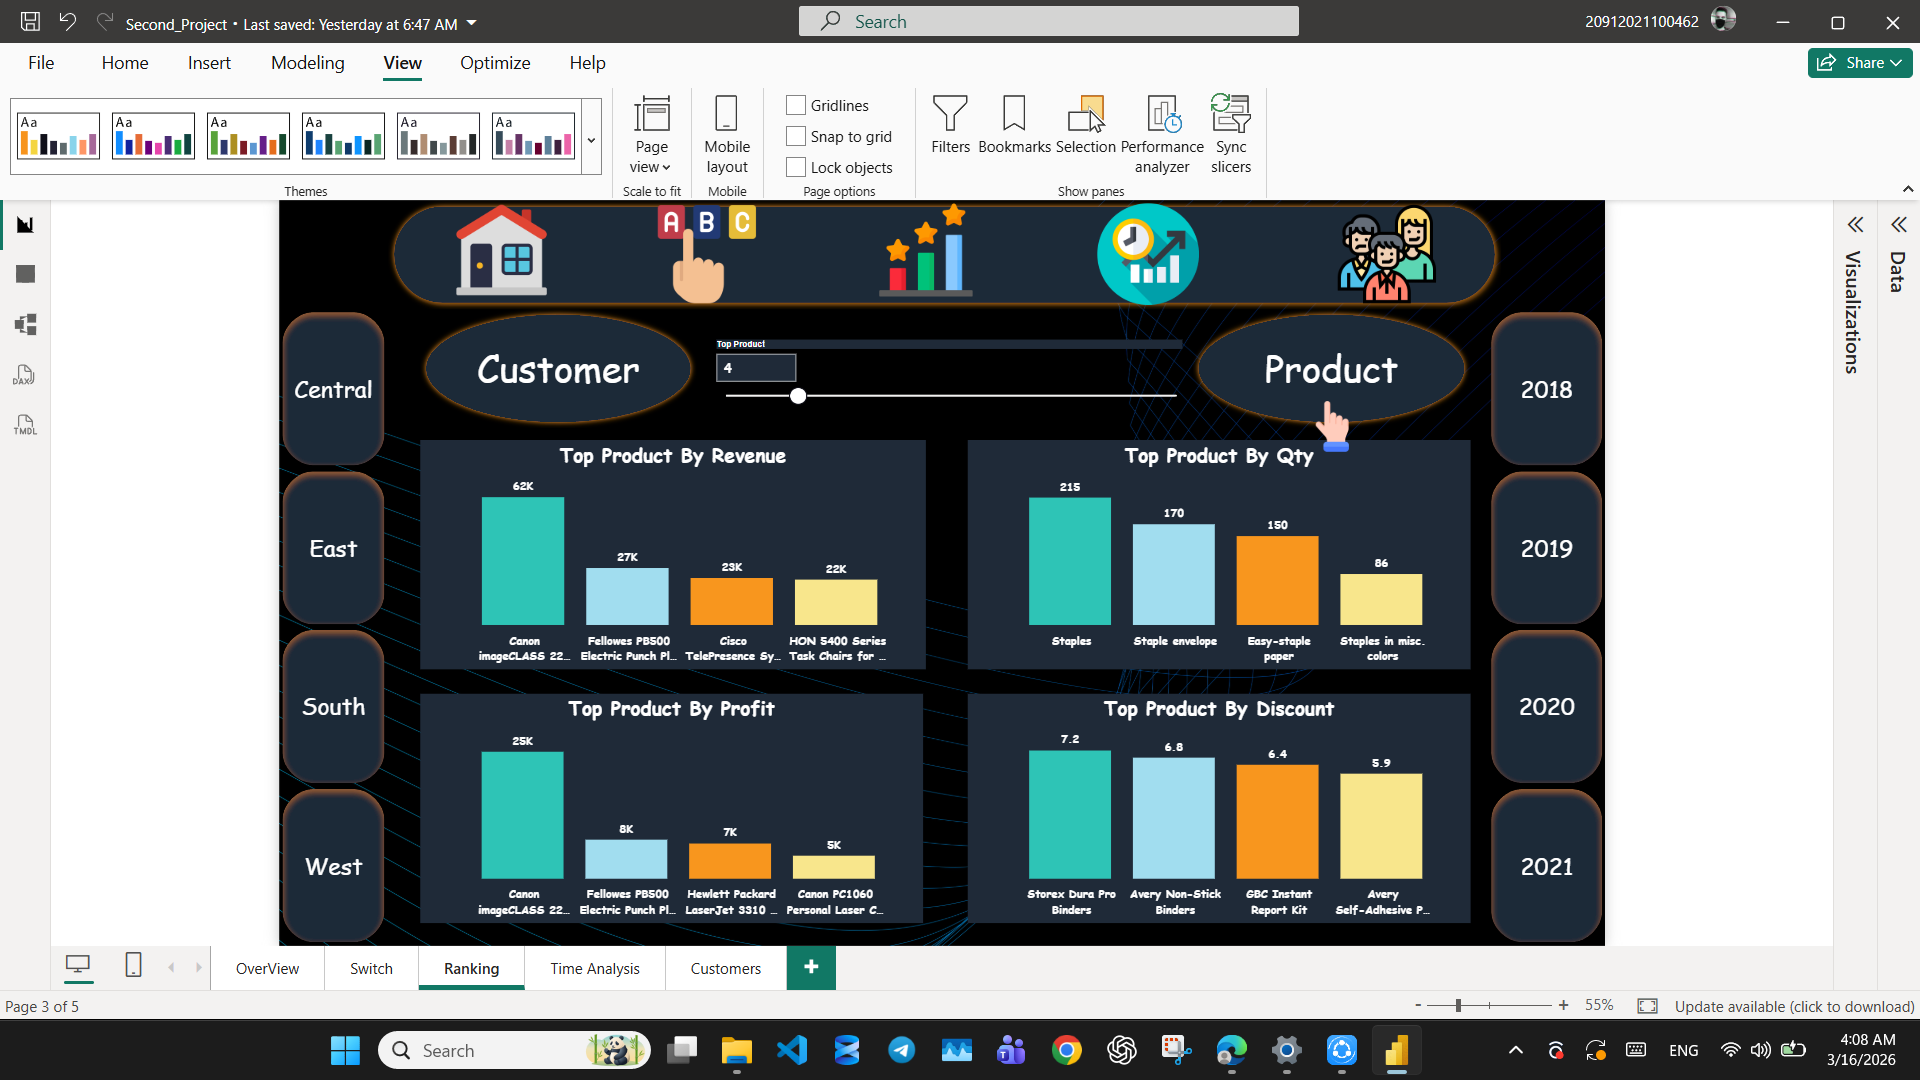

The page's visual inventory and layout, read from the dashboard file:
{"tool":"powerbi","page":{"name":"Ranking","canvas":[1920,1080],"ordinal":2},"visuals":[{"type":"shape","box":[158,0,1762,158],"z":0},{"type":"actionButton","title":"Button_Customer","box":[204.6,157.7,399.8,172.7],"z":2000},{"type":"actionButton","title":"Button_Product","box":[1482,158,402,172],"z":3000},{"type":"slicer","title":"Top Customer","fields":{"Values":["Customer_Parameter.Customer_Parameter"]},"box":[604,172,878,158],"z":8000},{"type":"clusteredColumnChart","title":"Top Customer By Revenue","fields":{"Y":["Dax.Ranking _Customer_Rev"],"Category":["Dim_Customer.Customer Name"]},"box":[204,348,788,332],"z":9000},{"type":"clusteredColumnChart","title":"Top Customer By Profit","fields":{"Category":["Dim_Customer.Customer Name"],"Y":["Dax.Ranking _Customer_profit"]},"box":[204,714,788,332],"z":10000},{"type":"clusteredColumnChart","title":"Top Customer By Qty","fields":{"Y":["Dax.Ranking _Customer_qty"],"Category":["Dim_Customer.Customer Name"]},"box":[1016,348,874,332],"z":11000},{"type":"clusteredColumnChart","title":"Top Customer By Discount","fields":{"Category":["Dim_Customer.Customer Name"],"Y":["Dax.Ranking _Customer_discount"]},"box":[1016,714,874,332],"z":12000},{"type":"image","title":"Image_profit_Customer","box":[335,243.3,100,170],"z":13000},{"type":"image","box":[230.7,0,184.2,144.8],"z":15000},{"type":"image","box":[650,0,158,158],"z":16000},{"type":"image","box":[1734,0,156,158],"z":17000},{"type":"image","box":[1016,0,158,144],"z":18000},{"type":"image","box":[1374,0,158,158],"z":19000},{"type":"advancedSlicerVisual","fields":{"Values":["Dim_Customer.Region"]},"box":[0,160,158.3,406.7],"z":20000},{"type":"advancedSlicerVisual","fields":{"Values":["Calendar_Table.Year"]},"box":[0,585.7,158.6,494.3],"z":21000}]}

Visuals, with their boxes on the page's 1920x1080 design canvas (x1, y1, x2, y2). These are canvas units, not pixel positions in the 1920x1080 screenshot, which may show the page scaled, cropped or inside an application window:
shape: 158,0,1920,158
"Button_Customer" actionButton: 205,158,604,330
"Button_Product" actionButton: 1482,158,1884,330
"Top Customer" slicer: 604,172,1482,330
"Top Customer By Revenue" clusteredColumnChart: 204,348,992,680
"Top Customer By Profit" clusteredColumnChart: 204,714,992,1046
"Top Customer By Qty" clusteredColumnChart: 1016,348,1890,680
"Top Customer By Discount" clusteredColumnChart: 1016,714,1890,1046
"Image_profit_Customer" image: 335,243,435,413
image: 231,0,415,145
image: 650,0,808,158
image: 1734,0,1890,158
image: 1016,0,1174,144
image: 1374,0,1532,158
advancedSlicerVisual - Dim_Customer.Region: 0,160,158,567
advancedSlicerVisual - Calendar_Table.Year: 0,586,159,1080
